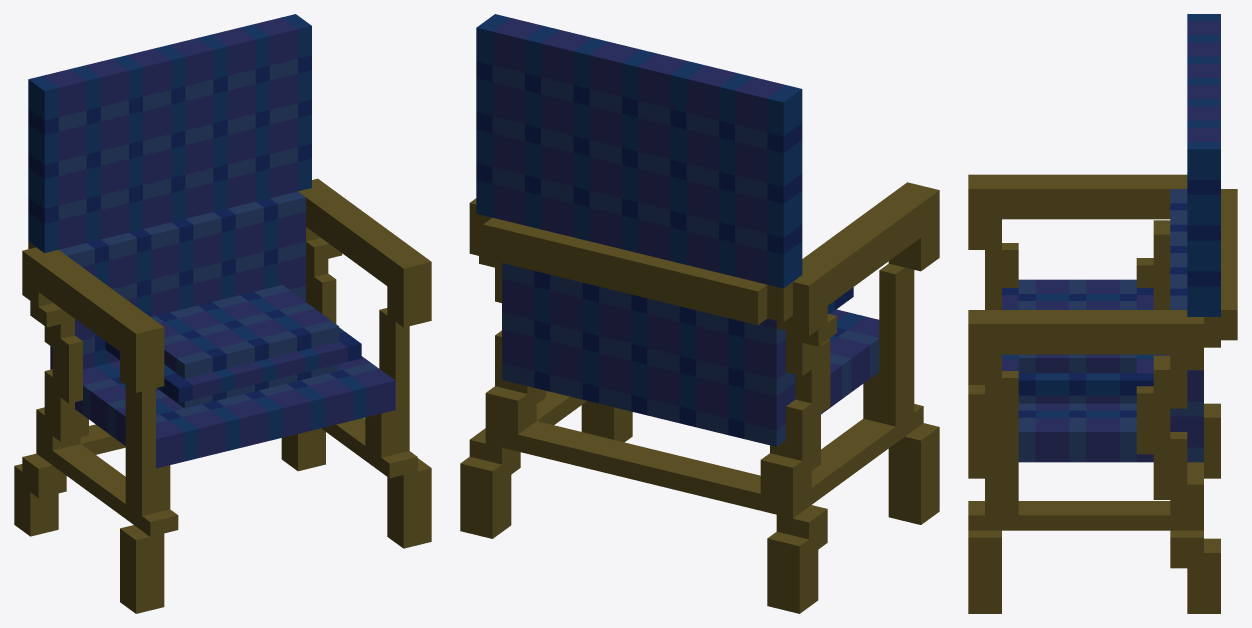
File: Cafe_Chair1.fbx
3 views of the same model, side by side, from view 1: azimuth 30°, elevation 25°; view 2: azimuth 150°, elevation 25°; view 3: azimuth 270°, elevation 25° (orthographic). The views are drawn at different scales.
Visible parts, largest first — view 1: Cafe Chair1.001, Cafe Chair1; view 2: Cafe Chair1.001; view 3: Cafe Chair1.001, Cafe Chair1.
Boxes of the visible parts, left/top/right/bottom form: Cafe Chair1.001: left=14, top=14, right=431, bottom=613; Cafe Chair1: left=105, top=285, right=361, bottom=408; Cafe Chair1.001: left=460, top=14, right=939, bottom=613; Cafe Chair1.001: left=968, top=14, right=1237, bottom=613; Cafe Chair1: left=1002, top=279, right=1153, bottom=403.
Bounding box in the file's own units: 2.1 × 3 × 1.6.
